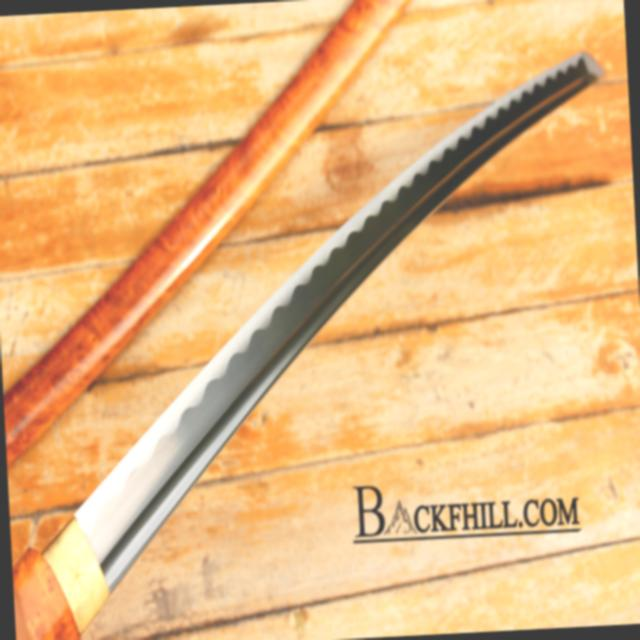long sword: (0, 43, 636, 640)
